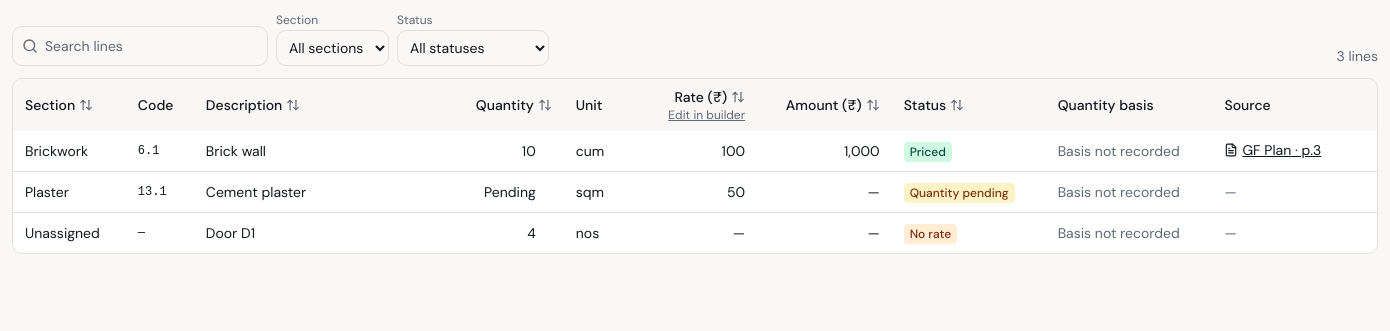
Test: BoqTable — inline editing › keeps the editor open with an error when the save fails
This screenshot has width=1390, height=331.
Click the button named "Edit Quantity for Brick wall". click: (511, 151)
box: x1=466 y1=139 x2=556 y2=163
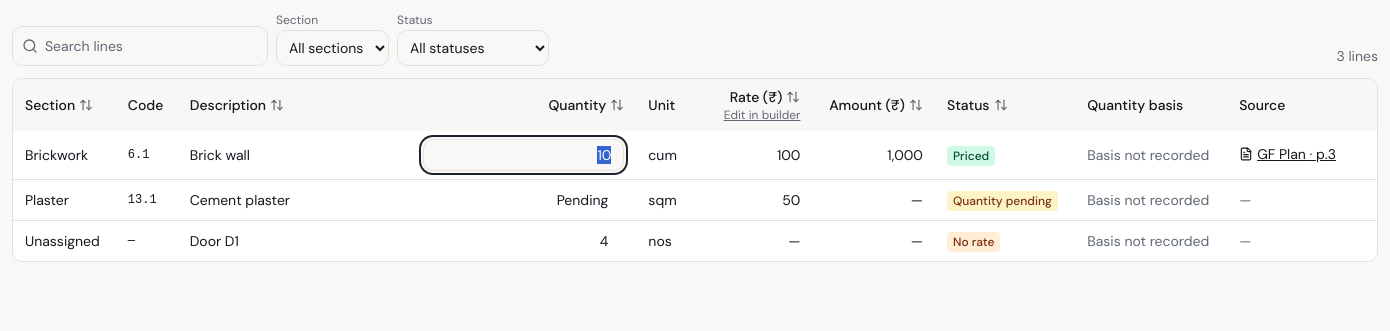
Replace the text in the field named "Quantity for Brick wall" with "11". click: (524, 155)
box: x1=423 y1=139 x2=624 y2=171
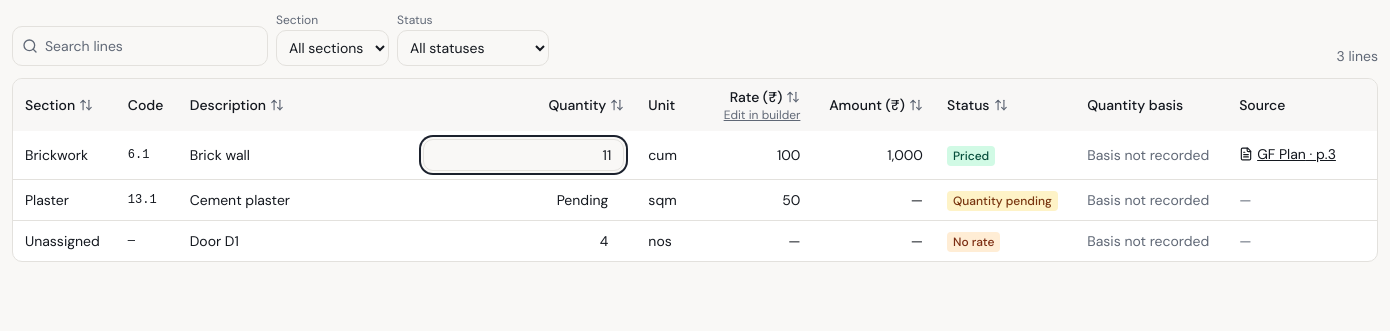
Press Enter in the field named "Quantity for Brick wall", box x1=423 y1=139 x2=624 y2=171
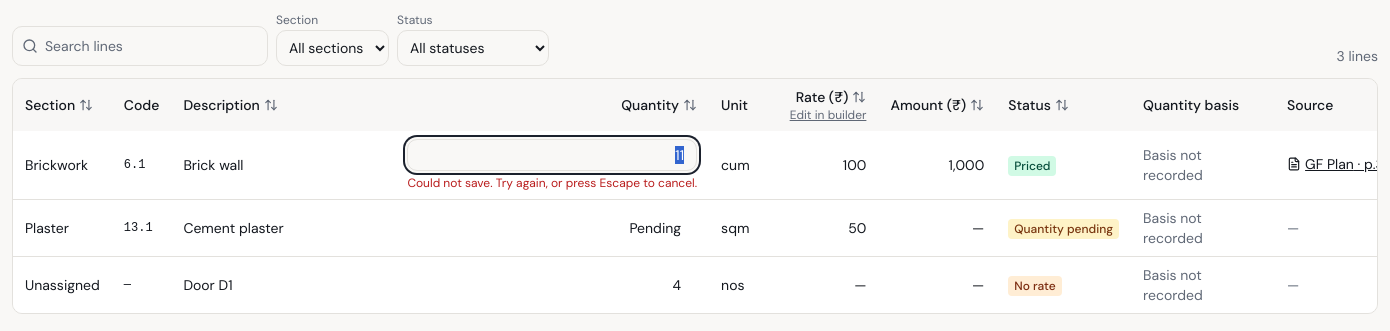
Expected: the message shows "Could not save", x1=407 y1=175 x2=697 y2=191
